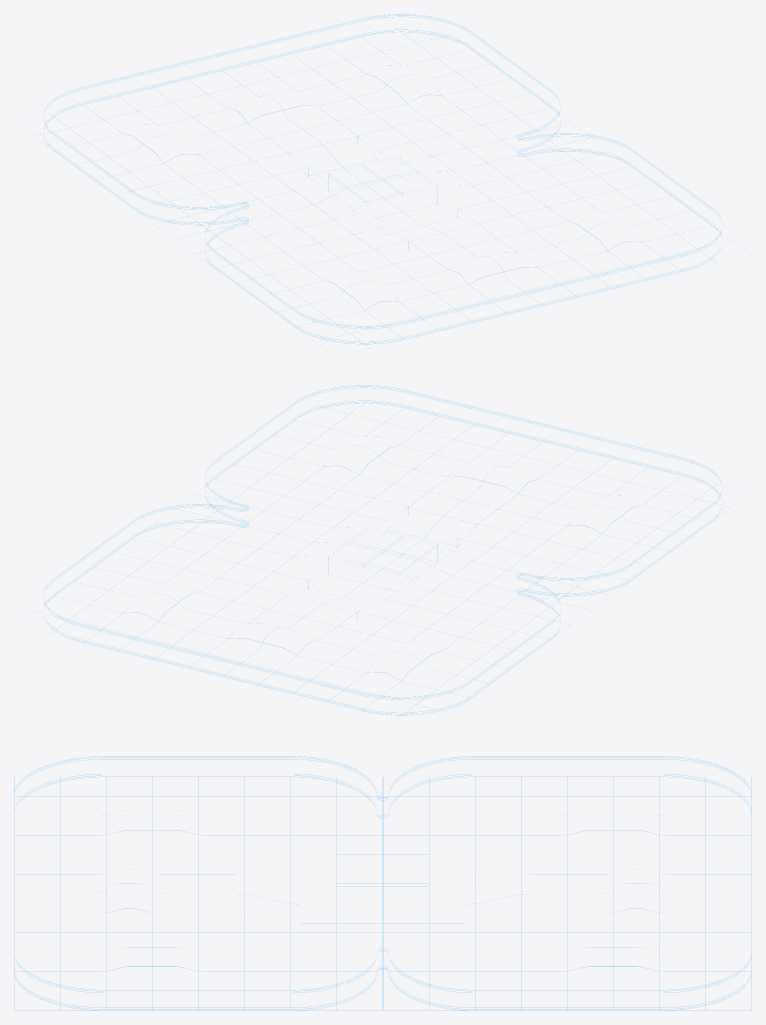
Rendered from TronMap_Neon.glb.
3 views of the same model, one above another, from view 1: azimuth 30°, elevation 25°; view 2: azimuth 150°, elevation 25°; view 3: azimuth 270°, elevation 25° (orthographic). The views are drawn at different scales.
Parts seen in each view (by area): view 1: Neon; view 2: Neon; view 3: Neon.
Part boxes in pixels (x1,y1,x2,y2): Neon: (15, 14, 749, 350); Neon: (16, 385, 750, 721); Neon: (14, 756, 751, 1010).
Size of the model in its own units: 12 by 0.7604 by 16.
